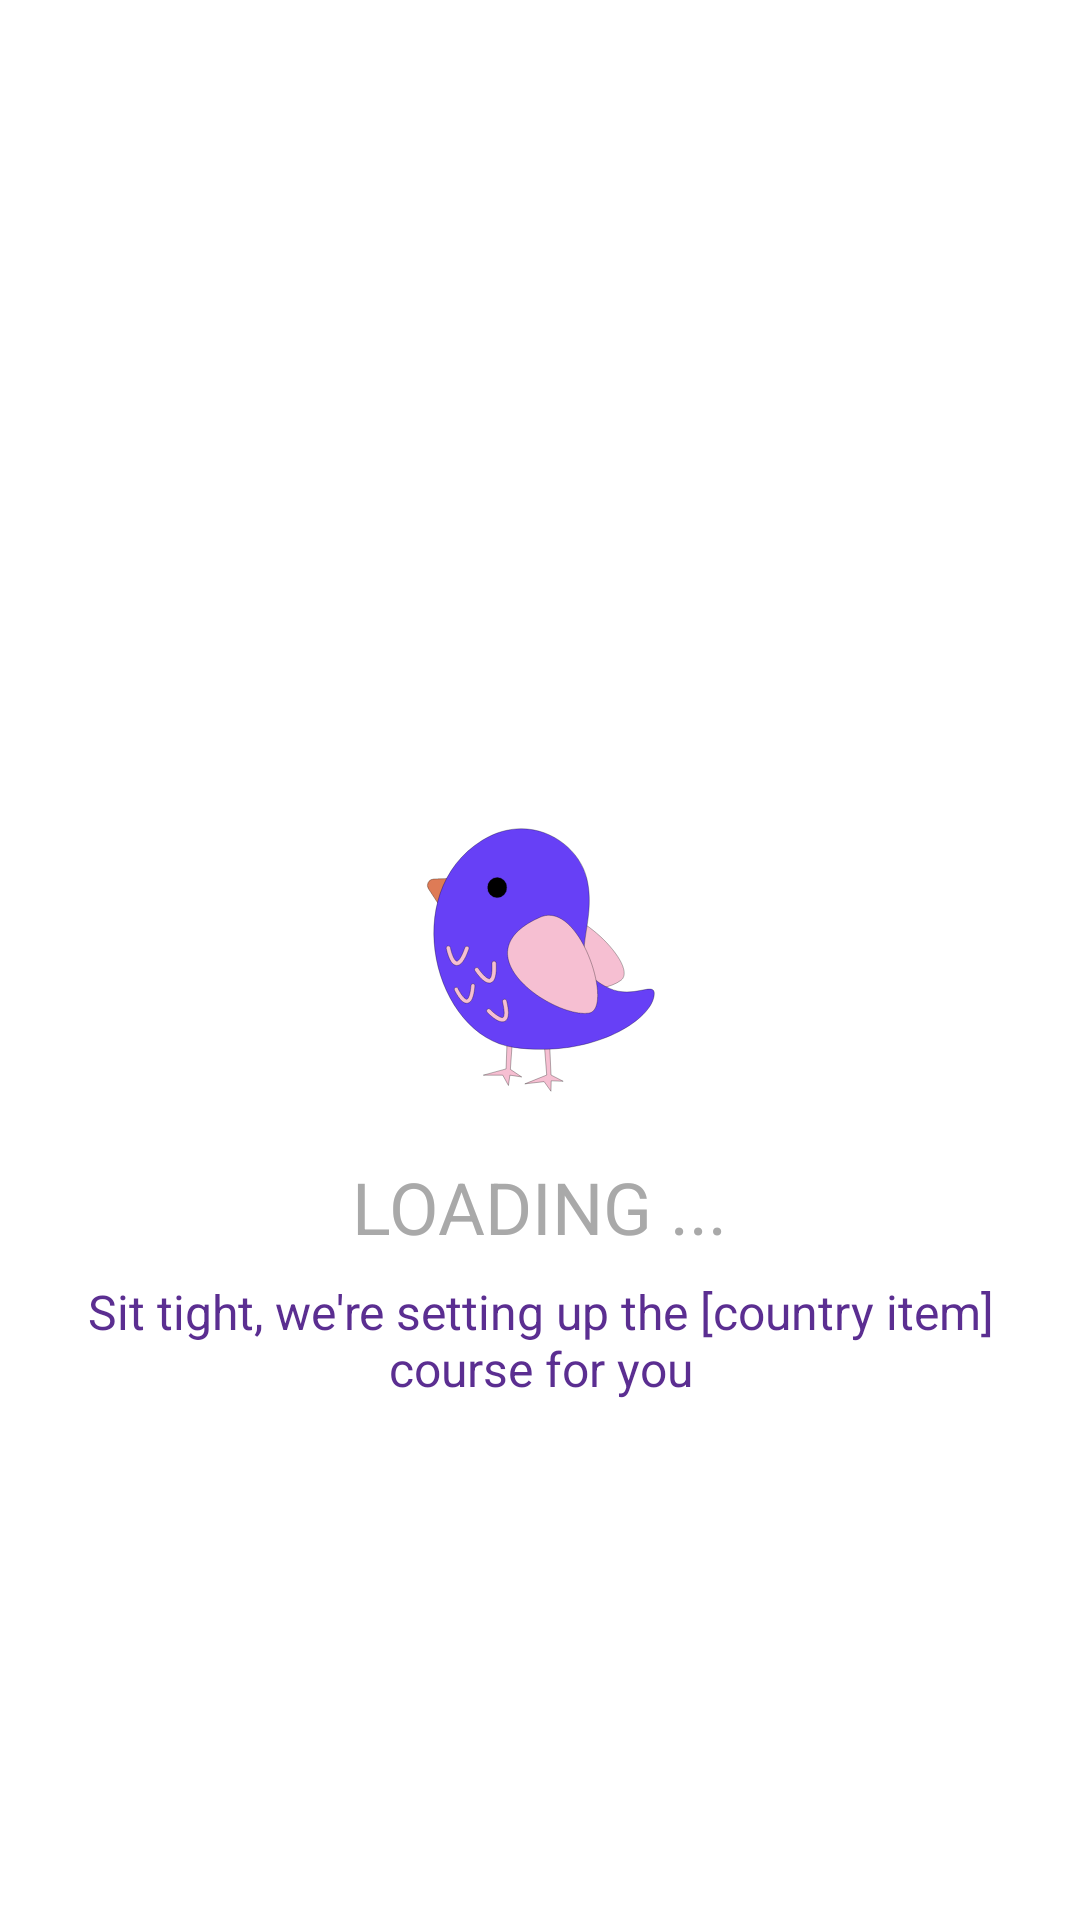

Icons on this 1080w x 1920h Android screen, each with its box as (x1, y1, x2, y2):
bird: (427, 828, 655, 1091)
